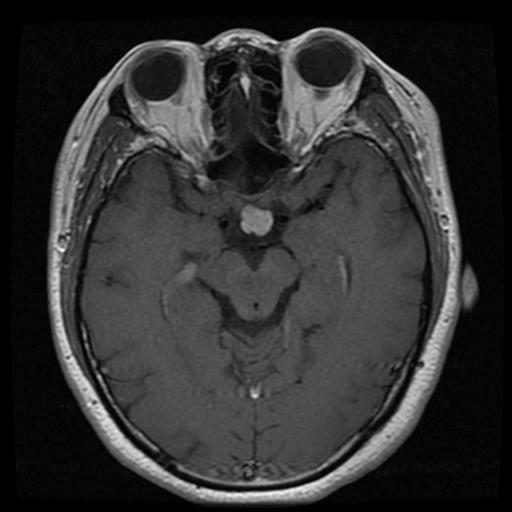Tumour-Pituitary: (236, 204, 283, 240)
